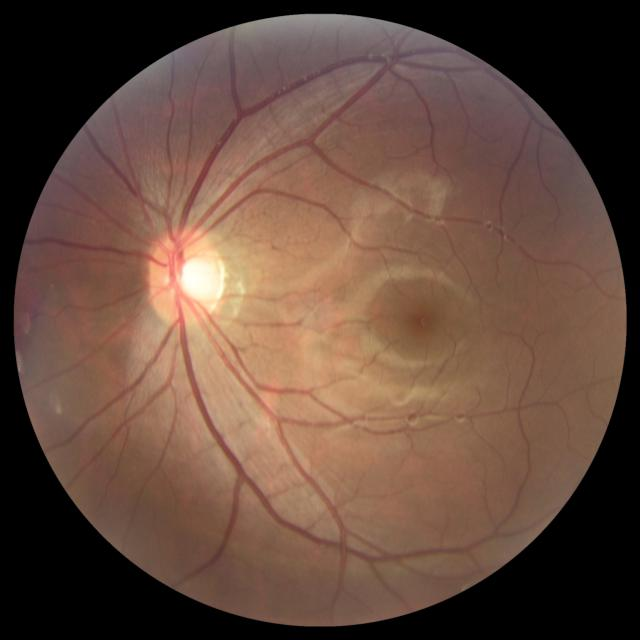OC: (174, 256, 212, 300)
OD: (148, 225, 224, 328)
